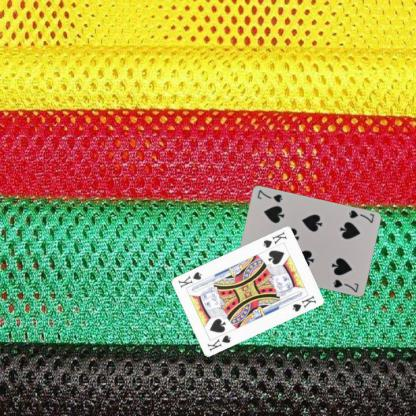7s: (346, 208, 375, 224)
Ks: (260, 230, 288, 250), (204, 333, 232, 352)
